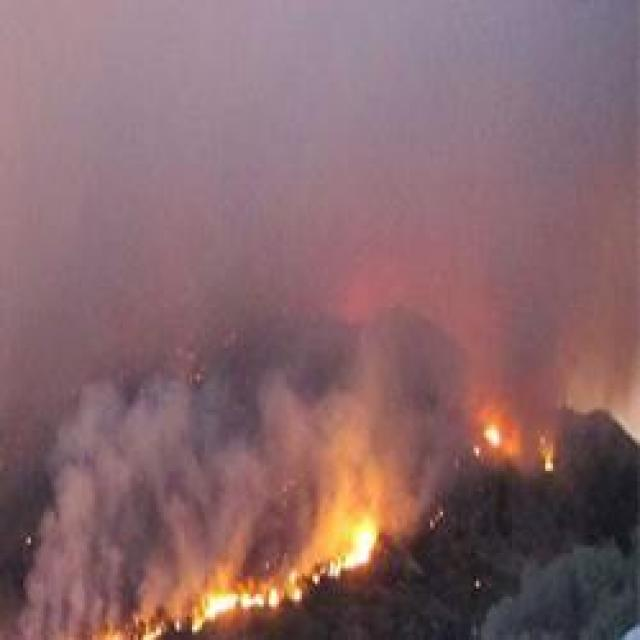fire: (342, 516, 375, 574), (200, 592, 246, 622), (483, 425, 502, 447)
smoke: (464, 257, 602, 411), (49, 376, 210, 493), (349, 315, 454, 491), (562, 184, 640, 406), (254, 377, 395, 487), (31, 474, 102, 636), (178, 454, 264, 570), (132, 541, 170, 609), (316, 464, 344, 552)
